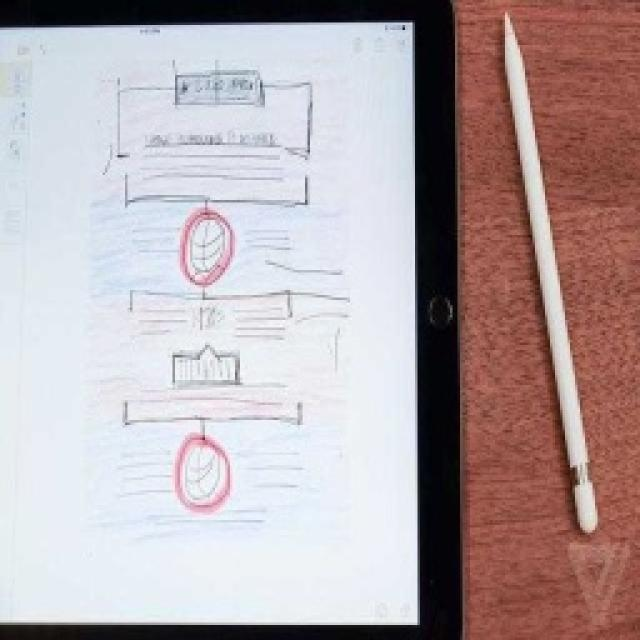pencil: (0, 0, 462, 637)
